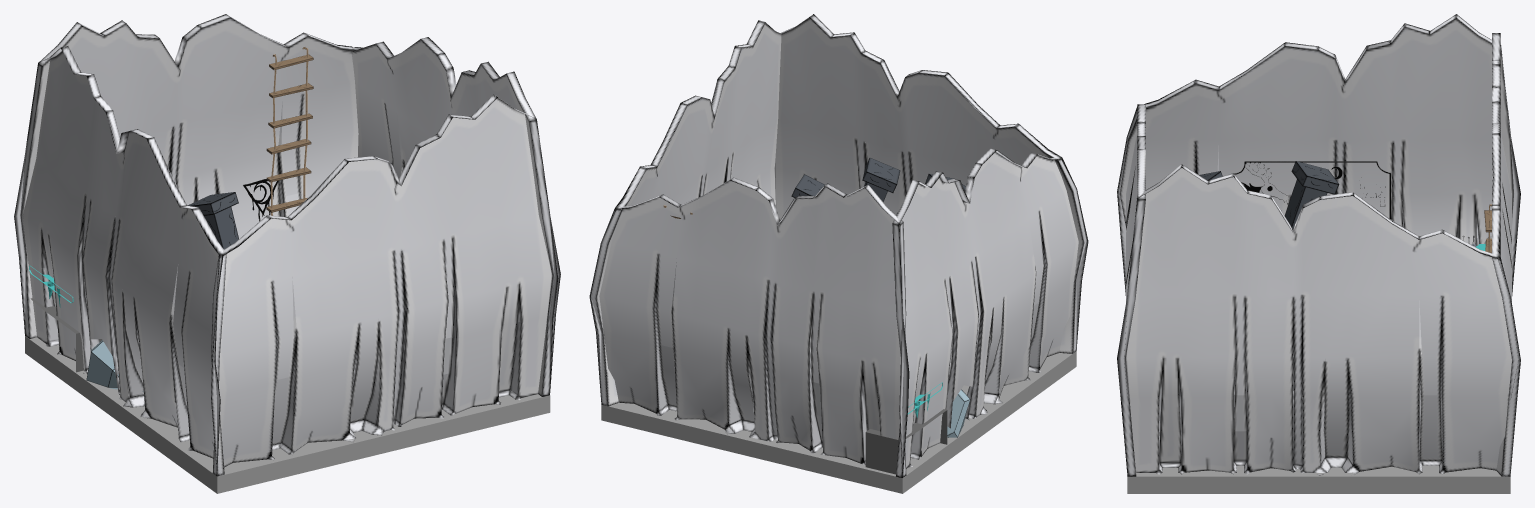
Rendered from Grotte_taniere.fbx.
3 views of the same model, side by side, from view 1: azimuth 30°, elevation 25°; view 2: azimuth 150°, elevation 25°; view 3: azimuth 270°, elevation 25° (orthographic). The views are drawn at different scales.
Parts seen in each view (by area): view 1: mur_glace20, mur_glace18, mur_glace8, mur_glace19, sol10, pilier9, echelle_construite1, echelle_construite2, Glacon1; view 2: mur_glace8, mur_glace18, mur_glace20, mur_glace19, sol10, Etabli, pilier14, Glacon1; view 3: mur_glace19, mur_glace18, sol10, mur_glace8, mur_glace20, pilier9, fresque1.
Boxes of the visible parts, x1,y1,x2,y2 form: mur_glace20: (211,94,558,476); mur_glace18: (14,46,226,476); mur_glace8: (20,14,358,338); mur_glace19: (351,37,560,396); sol10: (25,336,550,493); pilier9: (188,192,238,249); echelle_construite1: (268,47,313,144); echelle_construite2: (266,138,311,215); Glacon1: (86,340,143,391); mur_glace8: (590,177,906,477); mur_glace18: (892,148,1088,477); mur_glace20: (775,14,1086,353); mur_glace19: (589,20,781,406); sol10: (601,351,1076,493); Etabli: (865,409,947,474); pilier14: (862,158,900,201); Glacon1: (947,389,970,437); mur_glace19: (1124,164,1518,475); mur_glace18: (1119,14,1513,245); sol10: (1127,465,1510,493); mur_glace8: (1492,33,1520,476); mur_glace20: (1117,104,1145,476); pilier9: (1284,161,1339,228); fresque1: (1234,161,1390,219).
Size of the model in its own units: 844 by 742 by 844.
